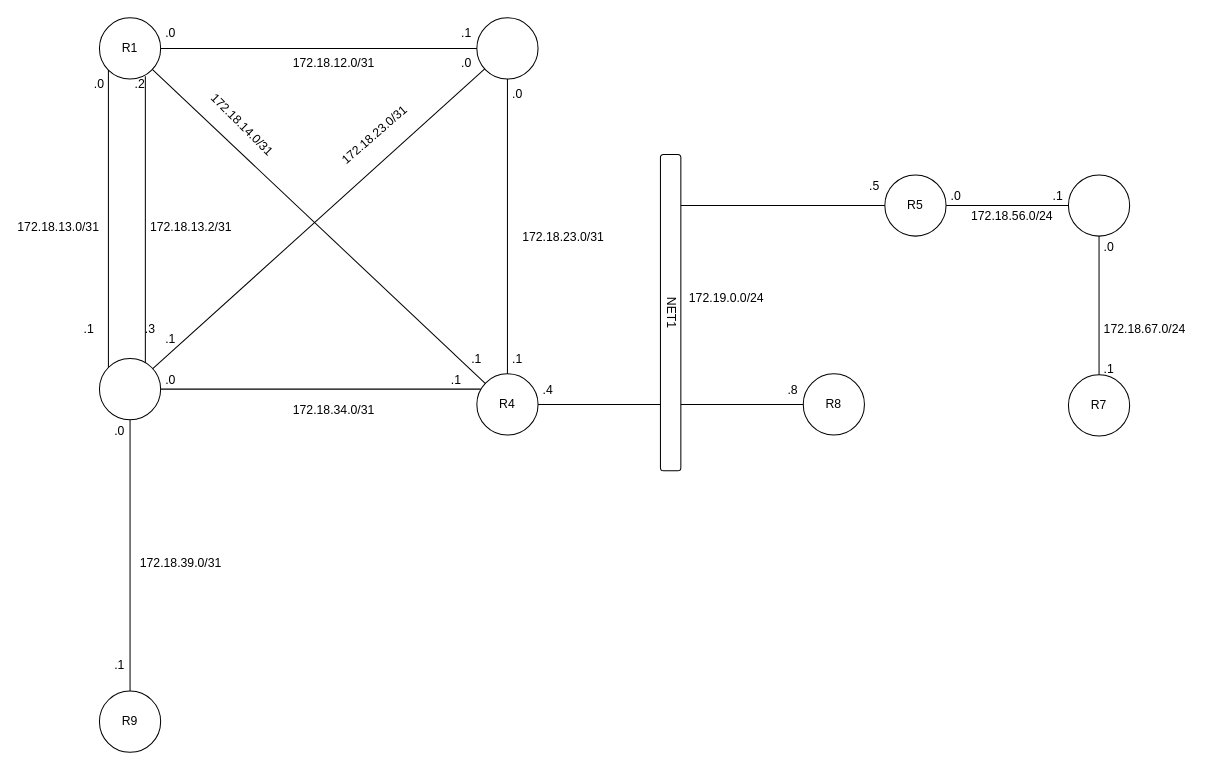
This 1208x770 diagram has some shape labels left out. The centre of each missing label's shape, as x and y in pixels:
"R2" goes at (x=507, y=48).
"R3" goes at (x=129, y=389).
"R6" goes at (x=1098, y=205).
